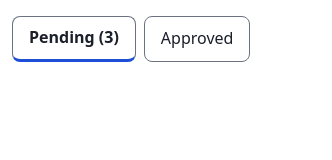
Test: FilterTabs › exposes pressed state and changes the selection
Click the button "Approved": {"x": 197, "y": 39} [144,16,250,62]
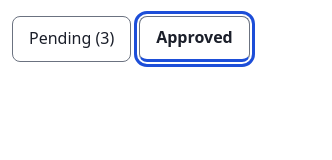
Now the button "Approved" is pressed, box [139,16,250,62]
Now the button "Pending (3)" is not pressed, box [12,16,131,62]
